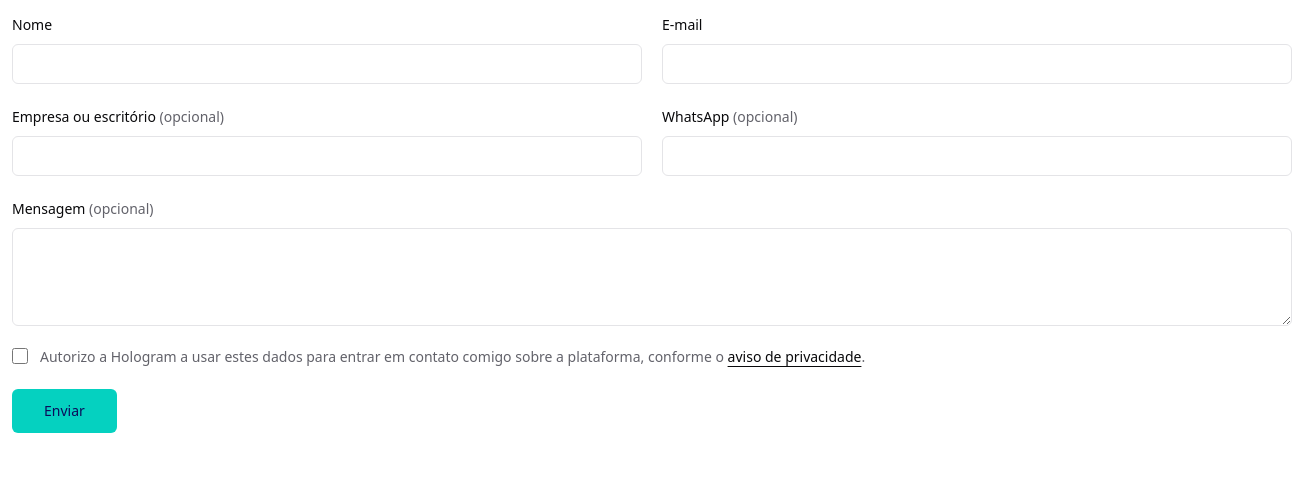
ContactForm › sem consentimento não envia e diz por quê
The width and height of the screenshot is (1304, 478).
In the field labelled "Nome": (327, 64) [12,44,642,84], type "Maria Contadora"
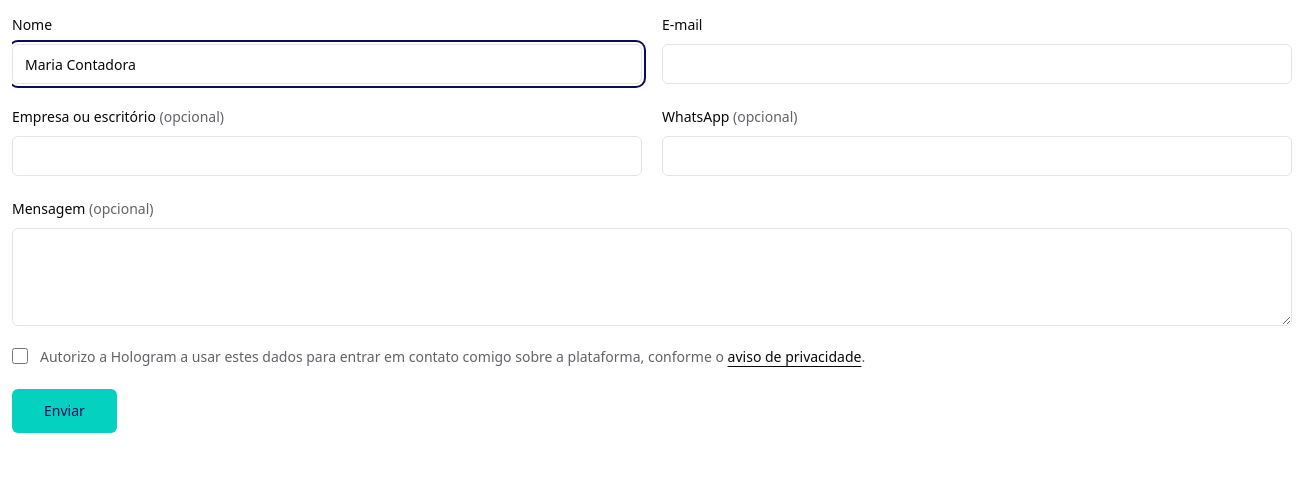
In the field labelled "E-mail": (977, 64) [662,44,1292,84], type "maria@exemplo.com.br"
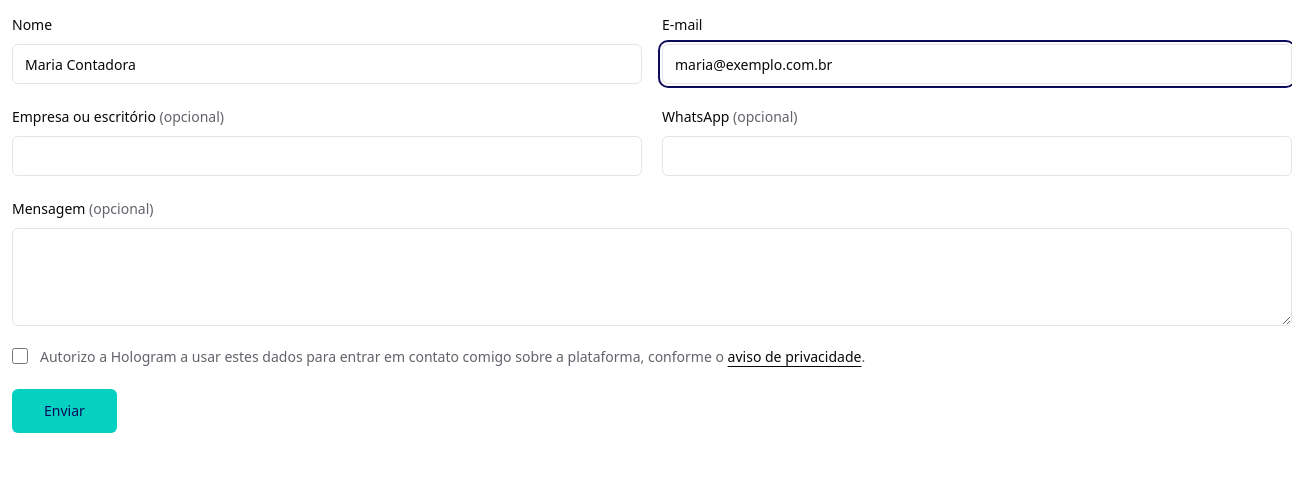
Click the button "Enviar": (64, 411) [12,389,117,433]
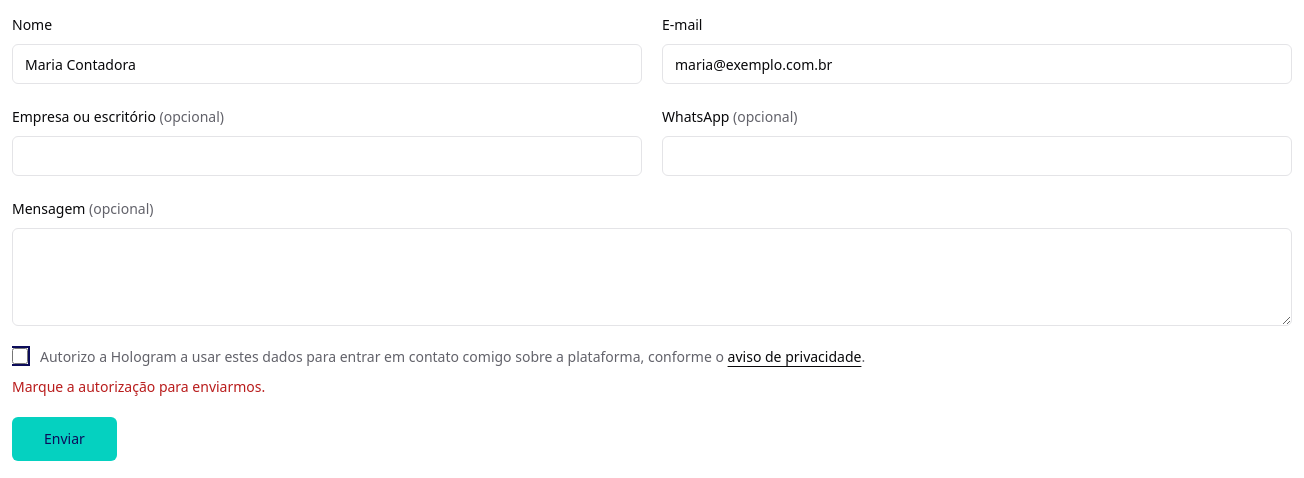
Result: the text "Marque a autorização para enviarmos." is shown at [12,377,265,396]
